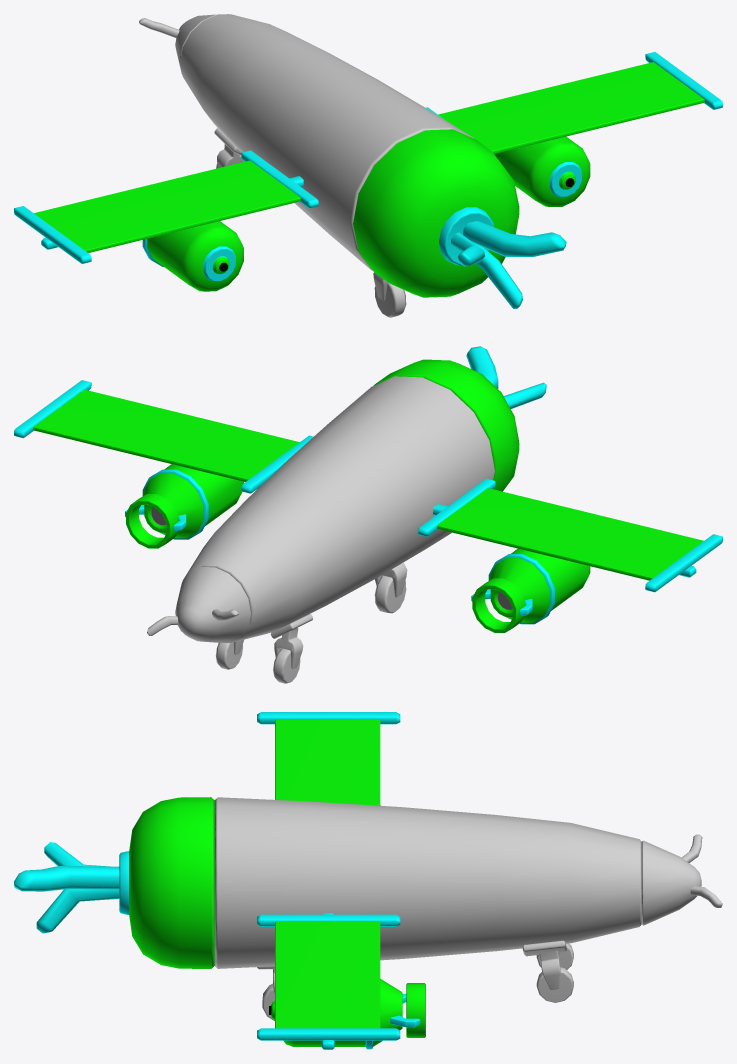
3 renders of one model, top to bottom at view 1: azimuth 30°, elevation 25°; view 2: azimuth 150°, elevation 25°; view 3: azimuth 270°, elevation 25°, orthographic. The views are drawn at different scales.
Visible parts, largest first — view 1: Body3, Propeller3, Wing3_R, Wing3_L, Propeller3_A, Spurt3_R, Spurt3_L, Body3_A, Fin3, Body3_B; view 2: Body3, Wing3_R, Wing3_L, Spurt3_R, Spurt3_L, Propeller3, Fin3, Body3_B, Propeller3_A, Body3_A, Body3_C; view 3: Body3, Wing3_L, Propeller3, Wing3_R, Propeller3_A, Fin3, Spurt3_L, Body3_C.
Part boxes in pixels (x1,y1,x2,y2): Body3: (180, 14, 474, 270); Propeller3: (353, 129, 519, 297); Wing3_R: (14, 150, 318, 263); Wing3_L: (426, 52, 722, 153); Propeller3_A: (439, 207, 566, 308); Spurt3_R: (142, 221, 243, 291); Spurt3_L: (494, 136, 590, 206); Body3_A: (373, 272, 406, 317); Fin3: (139, 14, 228, 74); Body3_B: (214, 128, 244, 168); Body3: (182, 376, 494, 642); Wing3_R: (418, 478, 722, 592); Wing3_L: (14, 380, 313, 493); Spurt3_R: (471, 548, 590, 632); Spurt3_L: (125, 464, 243, 548); Propeller3: (373, 359, 519, 491); Fin3: (147, 567, 250, 642); Body3_B: (270, 614, 312, 683); Propeller3_A: (466, 346, 546, 408); Body3_A: (374, 563, 407, 613); Body3_C: (215, 639, 243, 669); Body3: (214, 797, 641, 968); Wing3_L: (257, 913, 400, 1049); Propeller3: (129, 797, 214, 968); Wing3_R: (257, 712, 400, 805); Propeller3_A: (14, 842, 128, 933); Fin3: (641, 834, 722, 925); Spurt3_L: (269, 979, 425, 1049); Body3_C: (522, 940, 573, 1002).
Size of the model in its own units: 19.39 by 6 by 17.83.
